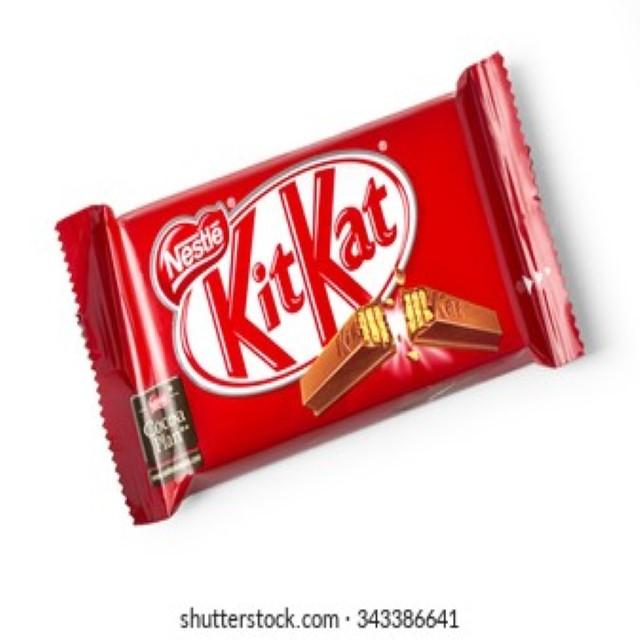kitkat_chocolate: (81, 60, 516, 560)
